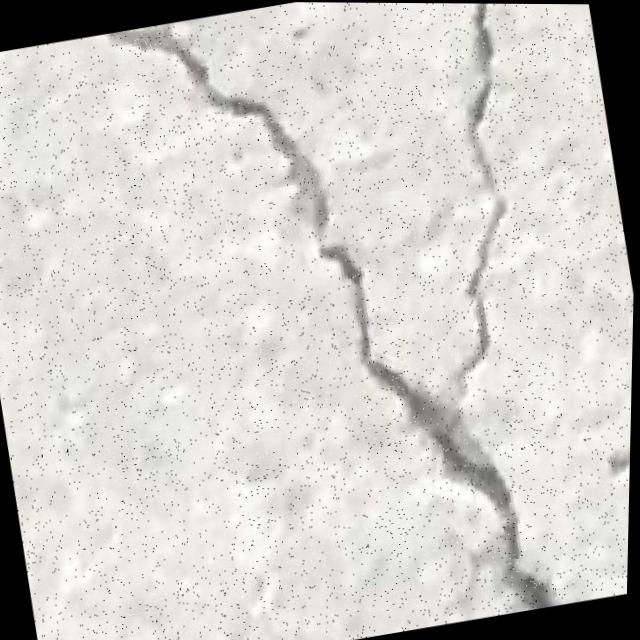Crack: (74, 0, 633, 640)
